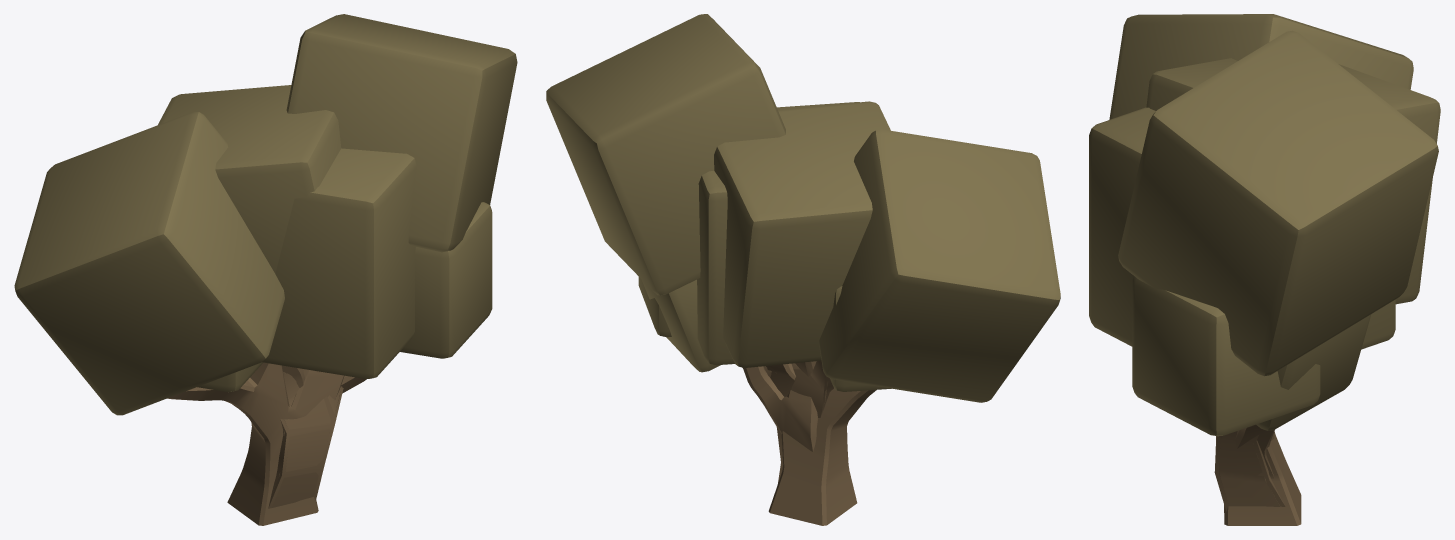
File: CubeTrees.glb
3 views of the same model, side by side, from view 1: azimuth 30°, elevation 25°; view 2: azimuth 150°, elevation 25°; view 3: azimuth 270°, elevation 25° (orthographic). The views are drawn at different scales.
Visible parts, largest first — view 1: Tree_3, Tree_1, Tree_2, DeadTree_1; view 2: Tree_3, Tree_2, Tree_1, DeadTree_1; view 3: Tree_3, Tree_1, Tree_2, DeadTree_1.
Part boxes in pixels (x1,y1,x2,y2): Tree_3: [14, 14, 517, 525]; Tree_1: [197, 148, 492, 507]; Tree_2: [158, 85, 366, 393]; DeadTree_1: [268, 371, 343, 508]; Tree_3: [546, 14, 1060, 525]; Tree_2: [641, 101, 890, 451]; Tree_1: [638, 102, 891, 404]; DeadTree_1: [742, 360, 830, 482]; Tree_3: [1109, 14, 1438, 525]; Tree_1: [1089, 107, 1395, 506]; Tree_2: [1146, 58, 1440, 478]; DeadTree_1: [1214, 434, 1285, 511].
Size of the model in its own units: 9.13 by 7.71 by 4.86.
1 material, 1 textured.
